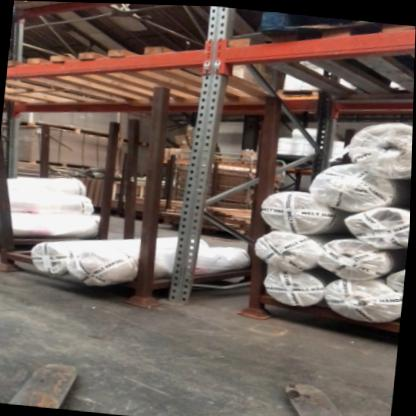vertical_damage: (164, 276, 200, 311)
